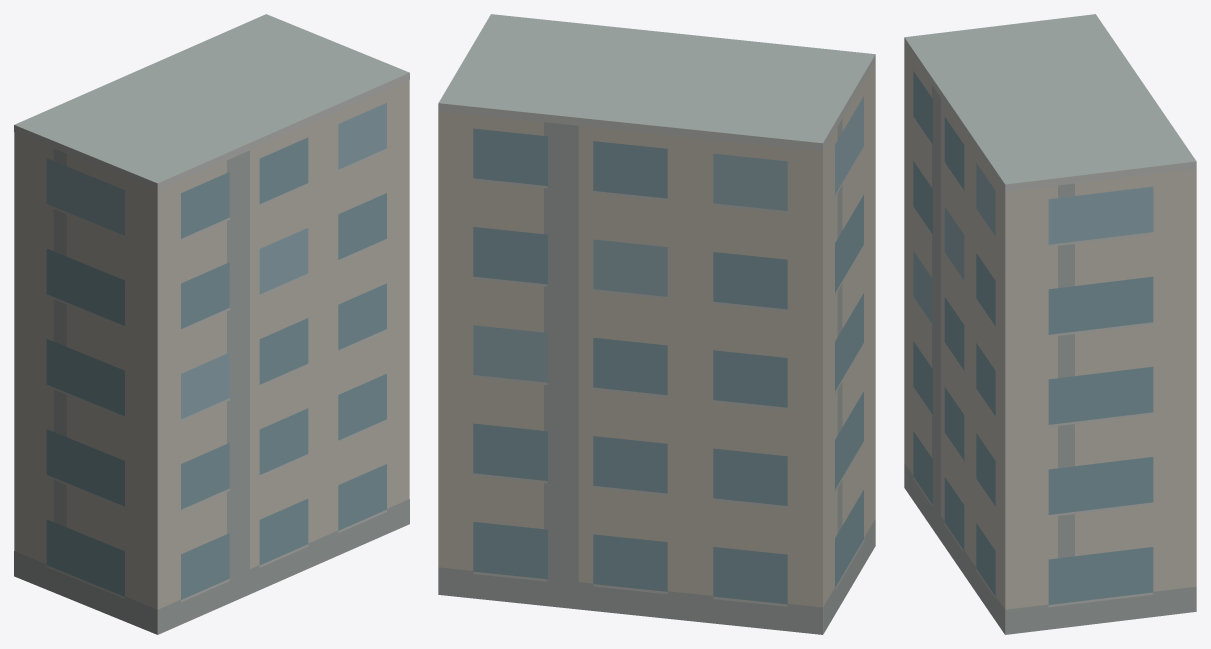
The model's file is survey-upis-32724600.glb.
3 views of the same model, side by side, from view 1: azimuth 30°, elevation 25°; view 2: azimuth 150°, elevation 25°; view 3: azimuth 270°, elevation 25° (orthographic). The views are drawn at different scales.
Parts seen in each view (by area): view 1: survey-upis-32724600.tmp; view 2: survey-upis-32724600.tmp; view 3: survey-upis-32724600.tmp.
Part boxes in pixels (box(x1,y1,x2,y2)): survey-upis-32724600.tmp: box(14, 14, 409, 634); survey-upis-32724600.tmp: box(438, 14, 875, 634); survey-upis-32724600.tmp: box(904, 14, 1196, 634).
Size of the model in its own units: 12.11 by 14.9 by 8.77.
